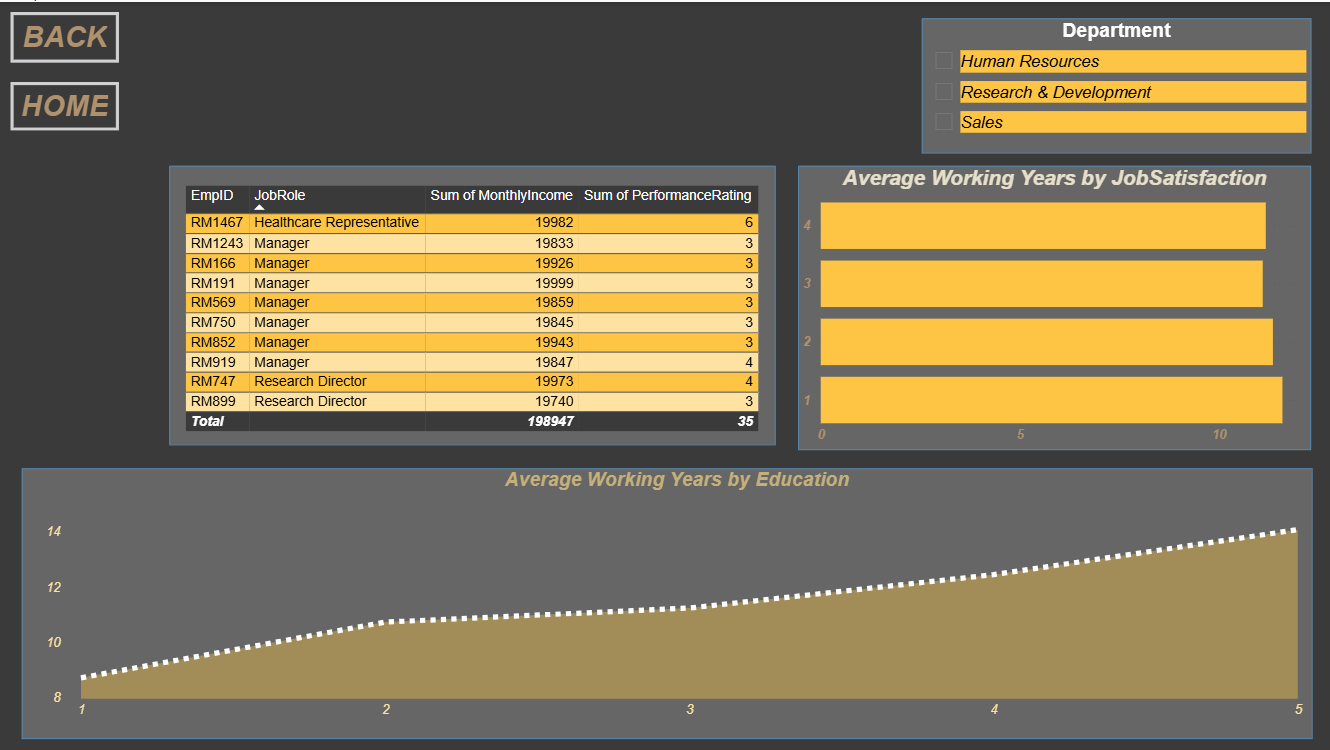

The dashboard page shown, as its layout file describes it:
{"tool":"powerbi","page":{"name":"Dashboard 3","canvas":[1280,720],"ordinal":2},"visuals":[{"type":"group","id":"g1","title":"Group 3","box":[767.3,157.4,492,272.7],"z":0},{"type":"shape","box":[767.3,157.4,492,272.7],"z":0,"group":"g1"},{"type":"shape","box":[23.1,447.3,1237.9,259.7],"z":1000},{"type":"shape","box":[164.5,157.3,581.4,268.4],"z":1500,"group":"g2"},{"type":"barChart","fields":{"Category":["hr_analysis.JobSatisfaction"],"Y":["hr_analysis.Average Working Years"]},"box":[767.5,157.3,492,274.1],"z":2000},{"type":"lineChart","fields":{"Category":["hr_analysis.Education"],"Y":["hr_analysis.Average Working Years"]},"box":[40.4,447.3,1220.6,248.2],"z":3000},{"type":"group","id":"g2","title":"Group 1","box":[164.5,157.3,581.4,268.4],"z":4000},{"type":"group","id":"g3","title":"Group 2","box":[885.9,15.9,373.7,129.8],"z":5000},{"type":"shape","box":[885.9,15.9,373.7,129.8],"z":5000,"group":"g3"},{"type":"tableEx","fields":{"Values":["hr_analysis.EmpID","hr_analysis.JobRole","Sum(hr_analysis.MonthlyIncome)","Sum(hr_analysis.PerformanceRating)"]},"box":[174.6,171.7,569.9,248.2],"z":5000,"group":"g2"},{"type":"actionButton","title":"dfdfff","box":[11.7,9.7,104,48.6],"z":6000},{"type":"slicer","title":"Department","fields":{"Values":["hr_analysis.Department"]},"box":[885.9,17.3,373.7,116.9],"z":6000,"group":"g3"},{"type":"actionButton","title":"dfdfff","box":[11.7,76.8,104,46.7],"z":7000}]}

Visuals, with their boxes in screenshot pixels (x1, y1, x2, y2), scaled from the page's 1280x720 canvas onto the 1330x750 screenshot:
"Group 3" group: 797/164/1308/448
shape: 797/164/1308/448
shape: 24/466/1310/736
shape: 171/164/775/443
barChart - hr_analysis.JobSatisfaction x hr_analysis.Average Working Years: 797/164/1309/449
lineChart - hr_analysis.Education x hr_analysis.Average Working Years: 42/466/1310/724
"Group 1" group: 171/164/775/443
"Group 2" group: 921/17/1309/152
shape: 921/17/1309/152
tableEx - hr_analysis.EmpID x hr_analysis.JobRole: 181/179/774/437
"dfdfff" actionButton: 12/10/120/61
"Department" slicer: 921/18/1309/140
"dfdfff" actionButton: 12/80/120/129
